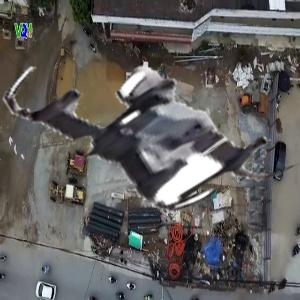drone: (21, 9, 263, 251)
